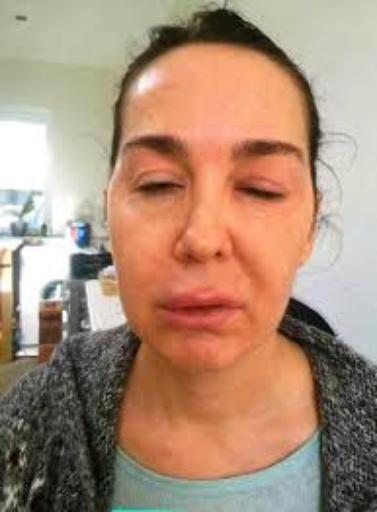left_eye: (235, 184, 287, 208)
left_lip_corner: (231, 298, 250, 317)
right_eye: (135, 180, 184, 201)
right_lip_corner: (152, 298, 171, 319)
